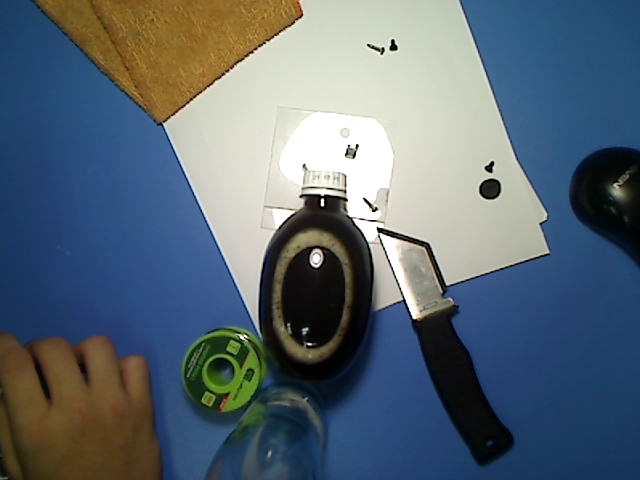plast_bottle: (254, 165, 381, 389)
